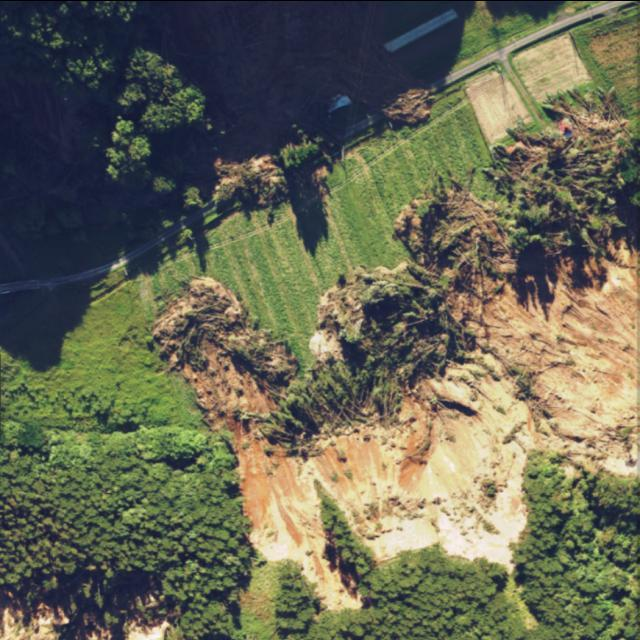landslide: (183, 189, 639, 610), (396, 90, 637, 272), (153, 276, 297, 392)
